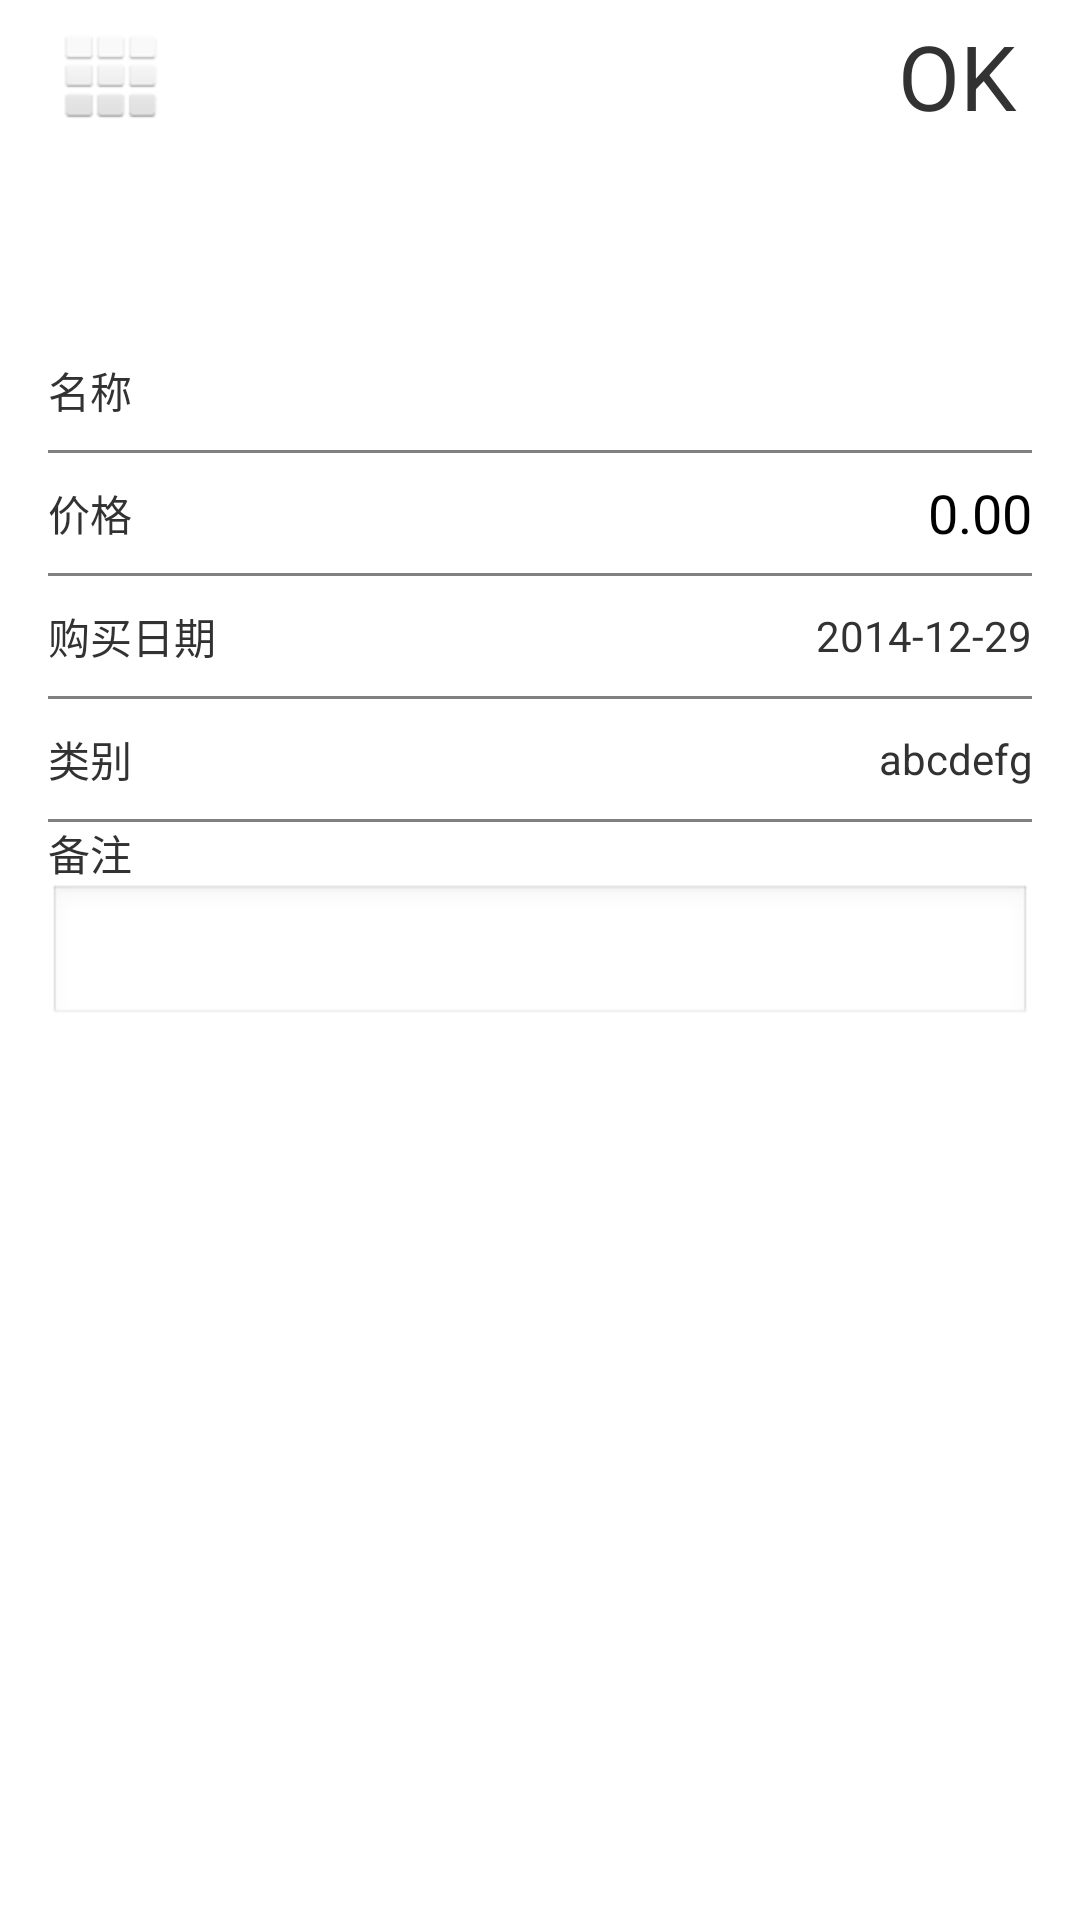

Icon click points for this 1080x1920 phone screenshot, format (x,y):
dialer: (110,86)
